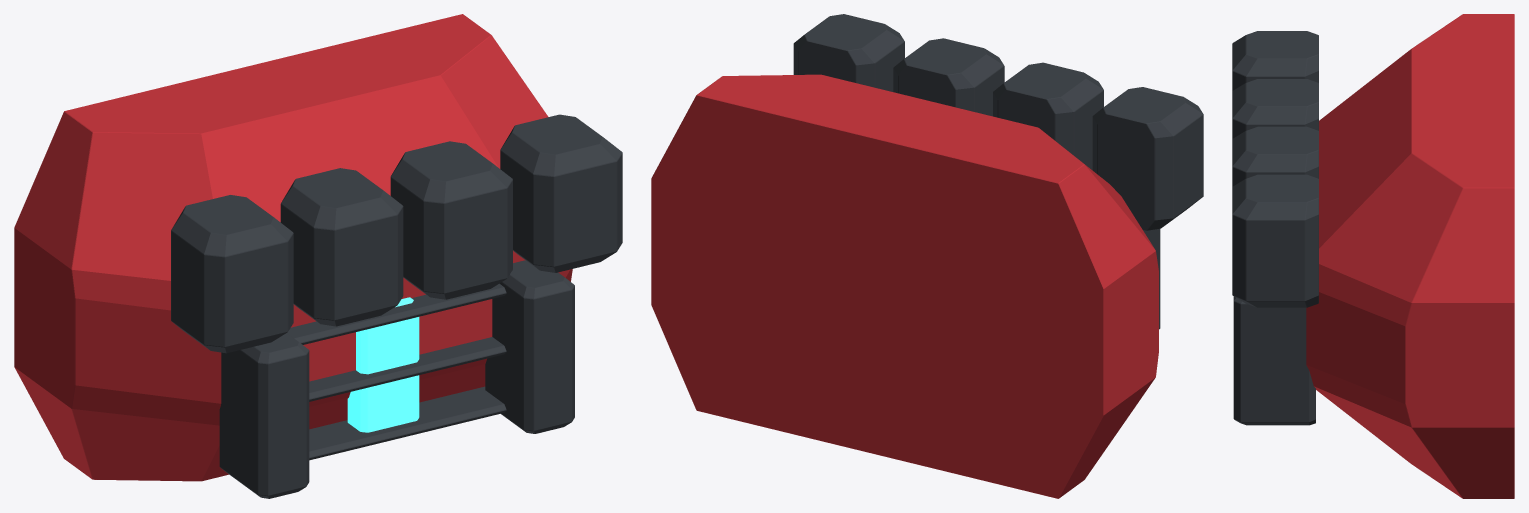
The model's file is HandFront_Set03_Overclock.fbx.
The picture shows the model from 3 angles, left to right: view 1: azimuth 30°, elevation 25°; view 2: azimuth 150°, elevation 25°; view 3: azimuth 270°, elevation 25°; orthographic projection. The views are drawn at different scales.
Parts seen in each view (by area): view 1: HandFront_Set03_Overclock; view 2: HandFront_Set03_Overclock; view 3: HandFront_Set03_Overclock.
Boxes of the visible parts, x1=… form: HandFront_Set03_Overclock: x1=14, y1=14, x2=622, y2=498; HandFront_Set03_Overclock: x1=651, y1=14, x2=1203, y2=498; HandFront_Set03_Overclock: x1=1232, y1=14, x2=1514, y2=498.
Bounding box in the file's own units: 0.3 × 0.2 × 0.1644.
